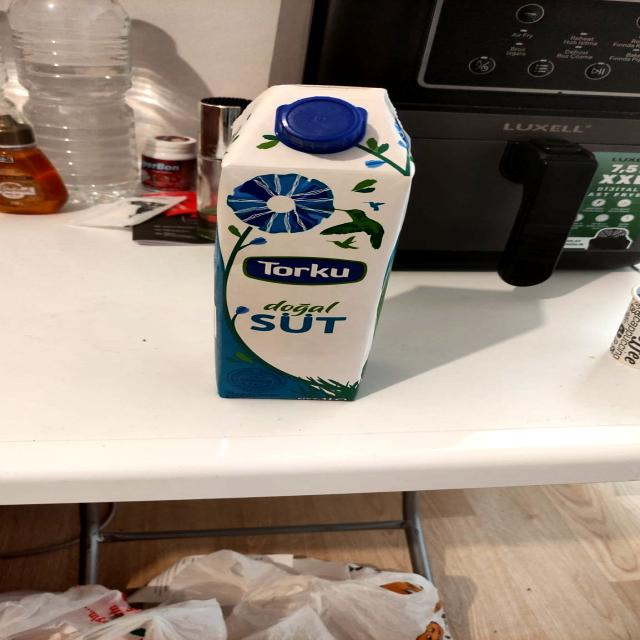milk: (196, 82, 433, 403)
